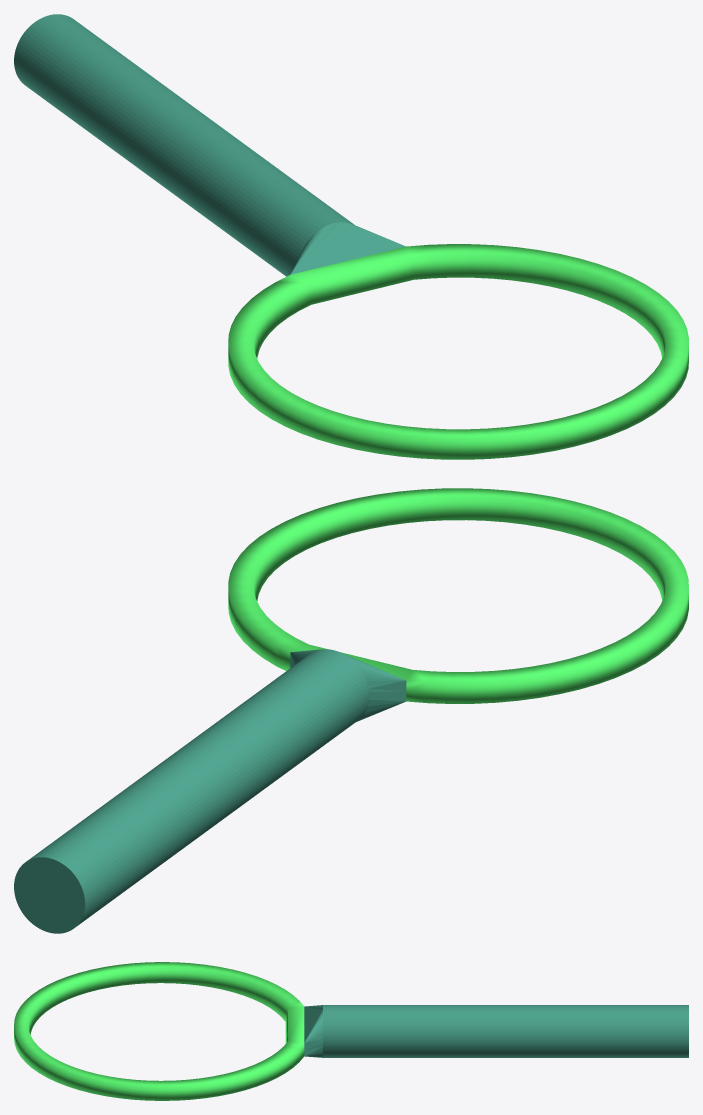
File: magGlass.obj
3 renders of one model, top to bottom at view 1: azimuth 30°, elevation 25°; view 2: azimuth 150°, elevation 25°; view 3: azimuth 270°, elevation 25°, orthographic. The views are drawn at different scales.
Visible parts, largest first — view 1: Circle; view 2: Circle; view 3: Circle.
Part boxes in pixels (box(x1,y1,x2,y2)): Circle: box(14, 14, 688, 459); Circle: box(14, 488, 688, 933); Circle: box(14, 962, 688, 1100).
Size of the model in its own units: 2 by 0.3569 by 4.55.
